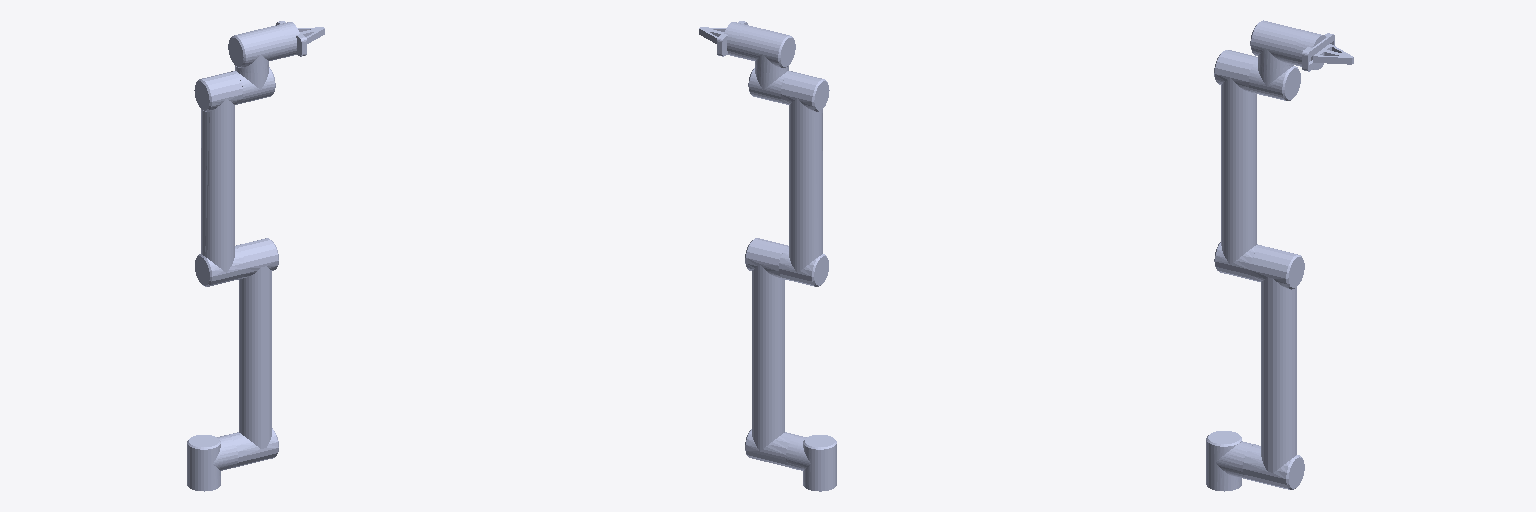
robot.urdf — mim_arm:
<?xml version="1.0" encoding="utf-8"?>
<!-- This URDF was automatically created by SolidWorks to URDF Exporter! Originally created by [author] ([email redacted]) 
     Commit Version: 1.6.0-1-g15f4949  Build Version: 1.6.7594.29634
     For more information, please see http://wiki.ros.org/sw_urdf_exporter -->
<robot
  name="mim_arm">
  <link
    name="arm_base_link">
    <inertial>
      <origin
        xyz="4.0324476207476E-19 0.0201017280573514 1.22282880618414E-18"
        rpy="0 0 0" />
      <mass
        value="0.689240659662406" />
      <inertia
        ixx="0.00102434108086272"
        ixy="-4.53910013248264E-22"
        ixz="6.32595764050144E-21"
        iyy="0.00186019972980973"
        iyz="9.11046134713641E-21"
        izz="0.00102434108086272" />
    </inertial>
    <visual>
      <origin
        xyz="0 0 0"
        rpy="0 0 0" />
      <geometry>
        <mesh
          filename="package://mim_robots/meshes/arm/arm_base_link.STL" />
      </geometry>
      <material
        name="">
        <color
          rgba="0.792156862745098 0.819607843137255 0.933333333333333 1" />
      </material>
    </visual>
    <collision>
      <origin
        xyz="0 0 0"
        rpy="0 0 0" />
      <geometry>
        <mesh
          filename="package://mim_robots/meshes/arm/arm_base_link.STL" />
      </geometry>
    </collision>
  </link>
  <link
    name="L1">
    <inertial>
      <origin
        xyz="0.0157111625345941 0.0745368802832561 3.13647523523372E-07"
        rpy="0 0 0" />
      <mass
        value="1.4669282614243" />
      <inertia
        ixx="0.00308011627370175"
        ixy="-0.000280318600425359"
        ixz="-2.78115993691665E-08"
        iyy="0.00284729677291346"
        iyz="-4.24599383233505E-08"
        izz="0.00401457062629856" />
    </inertial>
    <visual>
      <origin
        xyz="0 0 0"
        rpy="0 0 0" />
      <geometry>
        <mesh
          filename="package://mim_robots/meshes/arm/L1.STL" />
      </geometry>
      <material
        name="">
        <color
          rgba="0.792156862745098 0.819607843137255 0.933333333333333 1" />
      </material>
    </visual>
    <collision>
      <origin
        xyz="0 0 0"
        rpy="0 0 0" />
      <geometry>
        <mesh
          filename="package://mim_robots/meshes/arm/L1.STL" />
      </geometry>
    </collision>
  </link>
  <joint
    name="J1"
    type="continuous">
    <origin
      xyz="0 0 0.0413"
      rpy="1.5707963267949 0 0" />
    <parent
      link="arm_base_link" />
    <child
      link="L1" />
    <axis
      xyz="0 1 0" />
    <limit
      lower="-2" upper="2"
      effort="500"
      velocity="1" /> 
  </joint>
  <link
    name="L2">
    <inertial>
      <origin
        xyz="0.0779479349113748 0.280913529421034 7.34410938670474E-07"
        rpy="0 0 0" />
      <mass
        value="2.29683601605086" />
      <inertia
        ixx="0.168464226213727"
        ixy="-0.00381982056169402"
        ixz="-4.05034586847763E-07"
        iyy="0.00565087178159435"
        iyz="-1.13082867636618E-07"
        izz="0.17016215171057" />
    </inertial>
    <visual>
      <origin
        xyz="0 0 0"
        rpy="0 0 0" />
      <geometry>
        <mesh
          filename="package://mim_robots/meshes/arm/L2.STL" />
      </geometry>
      <material
        name="">
        <color
          rgba="0.792156862745098 0.819607843137255 0.933333333333333 1" />
      </material>
    </visual>
    <collision>
      <origin
        xyz="0 0 0"
        rpy="0 0 0" />
      <geometry>
        <mesh
          filename="package://mim_robots/meshes/arm/L2.STL" />
      </geometry>
    </collision>
  </link>
  <joint
    name="J2"
    type="continuous">
    <origin
      xyz="0.088 0.0867 0"
      rpy="0 0 0" />
    <parent
      link="L1" />
    <child
      link="L2" />
    <axis
      xyz="1 0 0" />
    <limit
      lower="-2" upper="2"
      effort="500"
      velocity="1" />
    <dynamics damping="0.5" friction="0.0"/>
  </joint>
  <link
    name="L3">
    <inertial>
      <origin
        xyz="-0.0366808275220467 0.279543173188777 1.74197462903595E-08"
        rpy="0 0 0" />
      <mass
        value="1.98768529541544" />
      <inertia
        ixx="0.126872933757764"
        ixy="0.000897781115611846"
        ixz="-1.17394389933483E-07"
        iyy="0.0042727539970328"
        iyz="-9.57570427050816E-08"
        izz="0.127637985047137" />
    </inertial>
    <visual>
      <origin
        xyz="0 0 0"
        rpy="0 0 0" />
      <geometry>
        <mesh
          filename="package://mim_robots/meshes/arm/L3.STL" />
      </geometry>
      <material
        name="">
        <color
          rgba="0.792156862745098 0.819607843137255 0.933333333333333 1" />
      </material>
    </visual>
    <collision>
      <origin
        xyz="0 0 0"
        rpy="0 0 0" />
      <geometry>
        <mesh
          filename="package://mim_robots/meshes/arm/L3.STL" />
      </geometry>
    </collision>
  </link>
  <joint
    name="J3"
    type="continuous">
    <origin
      xyz="0 0.6121 0"
      rpy="0 0 0" />
    <parent
      link="L2" />
    <child
      link="L3" />
    <axis
      xyz="1 0 0" />
    <limit
      lower="-2" upper="2"
      effort="1000"
      velocity="1" />
    <dynamics damping="0.5" friction="0.0"/>
  </joint>
  <link
    name="L4">
    <inertial>
      <origin
        xyz="0.0564196283832443 0.00575848624320208 2.32725778393383E-09"
        rpy="0 0 0" />
      <mass
        value="1.00354559055857" />
      <inertia
        ixx="0.00146767416739237"
        ixy="-9.69725683514423E-06"
        ixz="-1.00088198137846E-10"
        iyy="0.00165814344372837"
        iyz="1.53623505620225E-10"
        izz="0.00179215914016097" />
    </inertial>
    <visual>
      <origin
        xyz="0 0 0"
        rpy="0 0 0" />
      <geometry>
        <mesh
          filename="package://mim_robots/meshes/arm/L4.STL" />
      </geometry>
      <material
        name="">
        <color
          rgba="0.792156862745098 0.819607843137255 0.933333333333333 1" />
      </material>
    </visual>
    <collision>
      <origin
        xyz="0 0 0"
        rpy="0 0 0" />
      <geometry>
        <mesh
          filename="package://mim_robots/meshes/arm/L4.STL" />
      </geometry>
    </collision>
  </link>
  <joint
    name="J4"
    type="continuous">
    <origin
      xyz="0.018045 0.5722 0"
      rpy="0 0 0" />
    <parent
      link="L3" />
    <child
      link="L4" />
    <axis
      xyz="1 0 0" />
    <limit
      lower="-2" upper="2"
      effort="500"
      velocity="1" />
  </joint>
  <link
    name="L5">
    <inertial>
      <origin
        xyz="0.0427941842249601 0.0544573316193455 -7.21449320187494E-09"
        rpy="0 0 0" />
      <mass
        value="1.70333938122037" />
      <inertia
        ixx="0.00250547807265485"
        ixy="-9.58297477792303E-05"
        ixz="-1.14878663355293E-09"
        iyy="0.00349169270157988"
        iyz="-3.78091074524545E-10"
        izz="0.0034728289602989" />
    </inertial>
    <visual>
      <origin
        xyz="0 0 0"
        rpy="0 0 0" />
      <geometry>
        <mesh
          filename="package://mim_robots/meshes/arm/L5.STL" />
      </geometry>
      <material
        name="">
        <color
          rgba="0.792156862745098 0.819607843137255 0.933333333333333 1" />
      </material>
    </visual>
    <collision>
      <origin
        xyz="0 0 0"
        rpy="0 0 0" />
      <geometry>
        <mesh
          filename="package://mim_robots/meshes/arm/L5.STL" />
      </geometry>
    </collision>
  </link>
  <joint
    name="J5"
    type="continuous">
    <origin
      xyz="0.0580977444099582 0.0578500000000002 0"
      rpy="0 0 0" />
    <parent
      link="L4" />
    <child
      link="L5" />
    <axis
      xyz="0 1 0" />
    <limit
      lower="-2" upper="2"
      effort="1000"
      velocity="1" />
  </joint>
  <link
    name="GR">
    <inertial>
      <origin
        xyz="0.0273459250555881 2.22044604925031E-16 4.26469877311135E-18"
        rpy="0 0 0" />
      <mass
        value="0.437864913839137" />
      <inertia
        ixx="0.00070349828621003"
        ixy="-4.74006641006901E-19"
        ixz="-2.92590104031235E-20"
        iyy="0.000536785327844237"
        iyz="5.46749773398329E-14"
        izz="0.000377025648391104" />
    </inertial>
    <visual>
      <origin
        xyz="0 0 0"
        rpy="0 0 0" />
      <geometry>
        <mesh
          filename="package://mim_robots/meshes/arm/GR.STL" />
      </geometry>
      <material
        name="">
        <color
          rgba="0.792156862745098 0.819607843137255 0.933333333333333 1" />
      </material>
    </visual>
    <collision>
      <origin
        xyz="0 0 0"
        rpy="0 0 0" />
      <geometry>
        <mesh
          filename="package://mim_robots/meshes/arm/GR.STL" />
      </geometry>
    </collision>
  </link>
  <joint
    name="J6"
    type="continuous">
    <origin
      xyz="0.0912 0.0578499999999997 0"
      rpy="0 0 0" />
    <parent
      link="L5" />
    <child
      link="GR" />
    <axis
      xyz="1 0 0" />
    <limit
      lower="-2" upper="2"
      effort="1000"
      velocity="1" />
    <dynamics damping="0.5" friction="0.0"/>
  </joint>
  <link
    name="G1">
    <inertial>
      <origin
        xyz="0.0284421452977443 0.00999999999999979 0.0156979615555439"
        rpy="0 0 0" />
      <mass
        value="0.0483522534480086" />
      <inertia
        ixx="8.8203246982489E-06"
        ixy="1.90928784393704E-21"
        ixz="6.48121610168244E-06"
        iyy="5.66268780083E-05"
        iyz="-8.20669761878087E-22"
        izz="5.14050368732516E-05" />
    </inertial>
    <visual>
      <origin
        xyz="0 0 0"
        rpy="0 0 0" />
      <geometry>
        <mesh
          filename="package://mim_robots/meshes/arm/G1.STL" />
      </geometry>
      <material
        name="">
        <color
          rgba="0.792156862745098 0.819607843137255 0.933333333333333 1" />
      </material>
    </visual>
    <collision>
      <origin
        xyz="0 0 0"
        rpy="0 0 0" />
      <geometry>
        <mesh
          filename="package://mim_robots/meshes/arm/G1.STL" />
      </geometry>
    </collision>
  </link>
  <joint
    name="GJ1"
    type="prismatic">
    <origin
      xyz="0.055 -0.0100000000000002 0"
      rpy="0 0 0" />
    <parent
      link="GR" />
    <child
      link="G1" />
    <axis
      xyz="0 0 1" />
    <limit
      lower="0"
      upper="0.04"
      effort="100"
      velocity="30" />
  </joint>
  <link
    name="G2">
    <inertial>
      <origin
        xyz="0.33878488970771 -1.428 0.015697961555544"
        rpy="0 0 0" />
      <mass
        value="0.0483522534480085" />
      <inertia
        ixx="8.82032469824889E-06"
        ixy="-2.73882257929111E-19"
        ixz="6.48121610168243E-06"
        iyy="5.66268780082998E-05"
        iyz="3.42661424317774E-20"
        izz="5.14050368732515E-05" />
    </inertial>
    <visual>
      <origin
        xyz="0 0 0"
        rpy="0 0 0" />
      <geometry>
        <mesh
          filename="package://mim_robots/meshes/arm/G2.STL" />
      </geometry>
      <material
        name="">
        <color
          rgba="0.792156862745098 0.819607843137255 0.933333333333333 1" />
      </material>
    </visual>
    <collision>
      <origin
        xyz="0 0 0"
        rpy="0 0 0" />
      <geometry>
        <mesh
          filename="package://mim_robots/meshes/arm/G2.STL" />
      </geometry>
    </collision>
  </link>
  <joint
    name="GJ2"
    type="prismatic">
    <origin
      xyz="-0.255342744409958 -1.428 0"
      rpy="3.14159265358979 0 0" />
    <parent
      link="GR" />
    <child
      link="G2" />
    <axis
      xyz="0 0 1" />
    <limit
      lower="0"
      upper="0.04"
      effort="100"
      velocity="30" />
  </joint>
</robot>

--- Facts derived from the render (not from the file) ---
Views: 3 orthographic renders of the robot side by side, from view 1: azimuth 30°, elevation 25°; view 2: azimuth 150°, elevation 25°; view 3: azimuth 330°, elevation 25°.
Robot: mim_arm — 9 links, 8 joints (6 continuous, 2 prismatic); root link arm_base_link; default pose: every joint at zero.
Visible links, largest first — view 1: L3, L2, L5, L1, L4; view 2: L3, L2, L5, L1, L4; view 3: L2, L3, L5, L1, L4.
Boxes of the visible links, bbox=[...] form: L3: bbox=[194, 72, 244, 286]; L2: bbox=[228, 238, 278, 467]; L5: bbox=[228, 21, 306, 72]; L1: bbox=[187, 435, 237, 491]; L4: bbox=[231, 67, 275, 103]; L3: bbox=[779, 72, 829, 286]; L2: bbox=[745, 238, 795, 466]; L5: bbox=[717, 21, 795, 72]; L1: bbox=[786, 435, 836, 491]; L4: bbox=[748, 67, 792, 103]; L2: bbox=[1243, 246, 1304, 489]; L3: bbox=[1214, 50, 1261, 280]; L5: bbox=[1250, 20, 1334, 71]; L1: bbox=[1206, 431, 1255, 491]; L4: bbox=[1249, 59, 1300, 100].
Bounding box of the posed robot: 0.4603 × 0.15 × 1.44 m (x, y, z).
Meshes: 9 distinct files referenced, 8 mesh visuals loaded (8 binary STL); not drawn: 1 (reference not matched to a file when rendering).